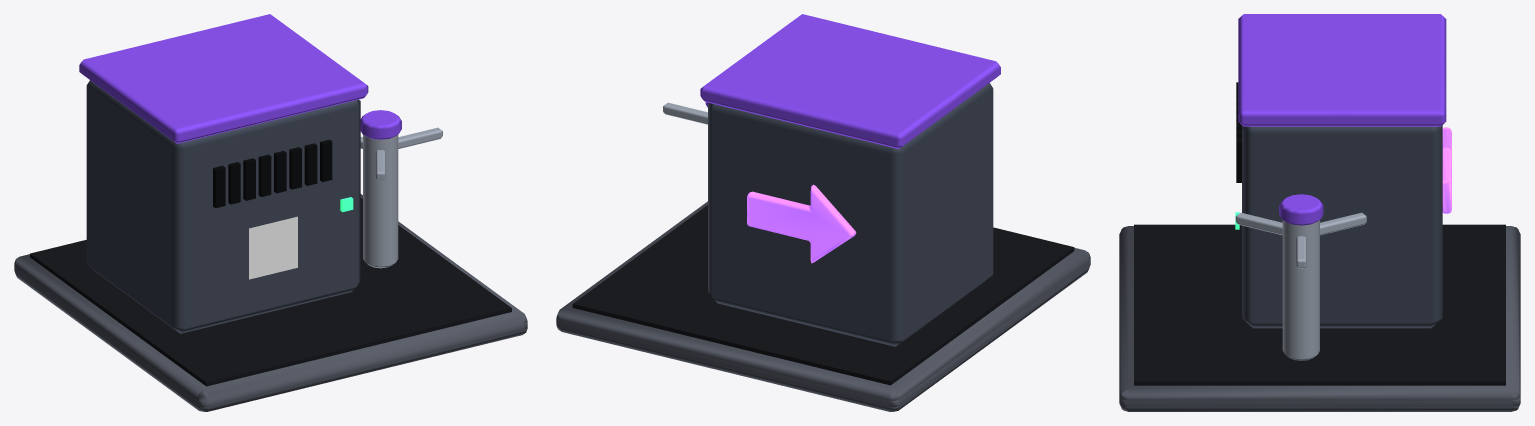
The model's file is nat_gw.glb.
The picture shows the model from 3 angles, left to right: view 1: azimuth 30°, elevation 25°; view 2: azimuth 150°, elevation 25°; view 3: azimuth 270°, elevation 25°; orthographic projection. The views are drawn at different scales.
Parts seen in each view (by area): view 1: body.steel, body.rubber, body.accent, body.concrete, body.vent, body.steel_light, body.badge, spin_turnstile.accent, spin_turnstile.steel_light; view 2: body.steel, body.rubber, body.accent, body.concrete, body.accent_glow, spin_turnstile.steel_light; view 3: body.rubber, body.steel, body.accent, body.concrete, body.steel_light, spin_turnstile.steel_light, spin_turnstile.accent, body.accent_glow, body.vent.
Part boxes in pixels (box(x1,y1,x2,y2)): body.steel: box(86, 80, 360, 333); body.rubber: box(30, 197, 511, 386); body.accent: box(79, 14, 368, 143); body.concrete: box(14, 194, 527, 411); body.vent: box(213, 139, 332, 208); body.steel_light: box(363, 134, 398, 268); body.badge: box(249, 216, 297, 279); spin_turnstile.accent: box(360, 110, 401, 139); spin_turnstile.steel_light: box(360, 127, 442, 180); body.steel: box(708, 83, 993, 346); body.rubber: box(572, 205, 1074, 385); body.accent: box(700, 14, 1000, 148); body.concrete: box(556, 201, 1090, 411); body.accent_glow: box(747, 184, 856, 263); spin_turnstile.steel_light: box(663, 102, 707, 124); body.rubber: box(1134, 224, 1505, 385); body.steel: box(1242, 125, 1442, 328); body.accent: box(1238, 14, 1446, 126); body.concrete: box(1119, 226, 1520, 411); body.steel_light: box(1282, 220, 1319, 360); spin_turnstile.steel_light: box(1235, 212, 1366, 268); spin_turnstile.accent: box(1279, 194, 1323, 225); body.accent_glow: box(1442, 127, 1451, 213); body.vent: box(1236, 82, 1241, 182).
Bounding box in the file's own units: 1.08 × 0.742 × 1.08.
